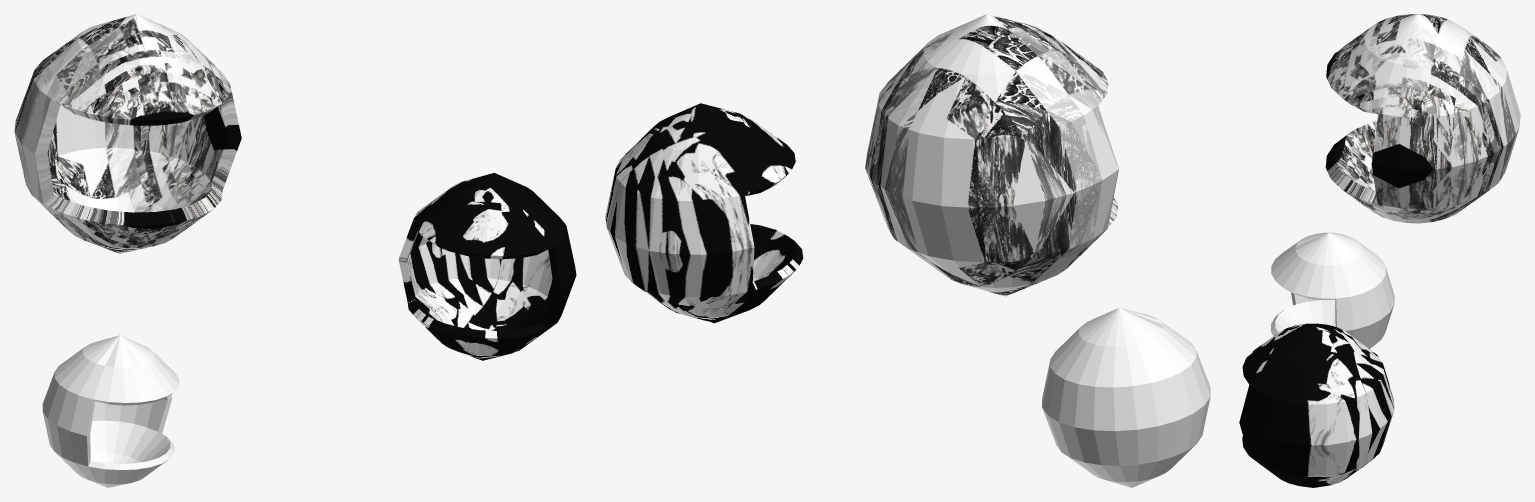
Rendered from domes.obj.
The picture shows the model from 3 angles, left to right: view 1: azimuth 30°, elevation 25°; view 2: azimuth 150°, elevation 25°; view 3: azimuth 270°, elevation 25°; orthographic projection. The views are drawn at different scales.
Visible parts, largest first — view 1: Sphere_001_Sphere_008, Sphere_002_Sphere_011, Sphere_000; view 2: Sphere_001_Sphere_008, Sphere_002_Sphere_011, Sphere_000; view 3: Sphere_001_Sphere_008, Sphere_002_Sphere_011, Sphere_000.
Part boxes in pixels (x1,y1,x2,y2): Sphere_001_Sphere_008: [14, 14, 241, 253]; Sphere_002_Sphere_011: [398, 173, 576, 360]; Sphere_000: [42, 335, 179, 487]; Sphere_001_Sphere_008: [865, 14, 1118, 296]; Sphere_002_Sphere_011: [605, 103, 803, 323]; Sphere_000: [1042, 307, 1210, 487]; Sphere_001_Sphere_008: [1325, 14, 1520, 223]; Sphere_002_Sphere_011: [1239, 323, 1394, 487]; Sphere_000: [1271, 232, 1394, 348].
Bounding box in the file's own units: 5.9 × 4.71 × 3.12.
3 materials, 2 textured.
